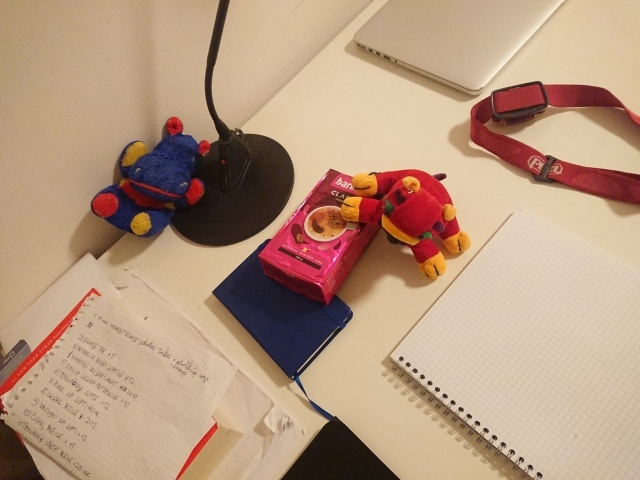Barcaffe Classic Original 225g: (255, 165, 395, 309)
